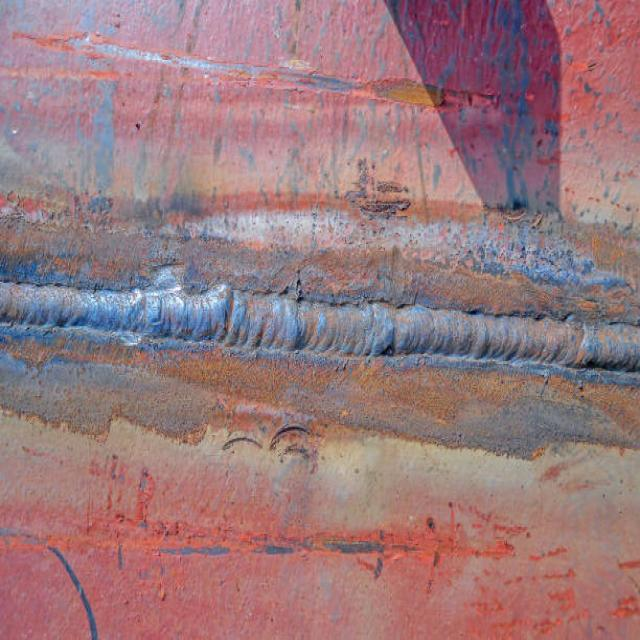Bad Weld: (11, 279, 630, 381)
